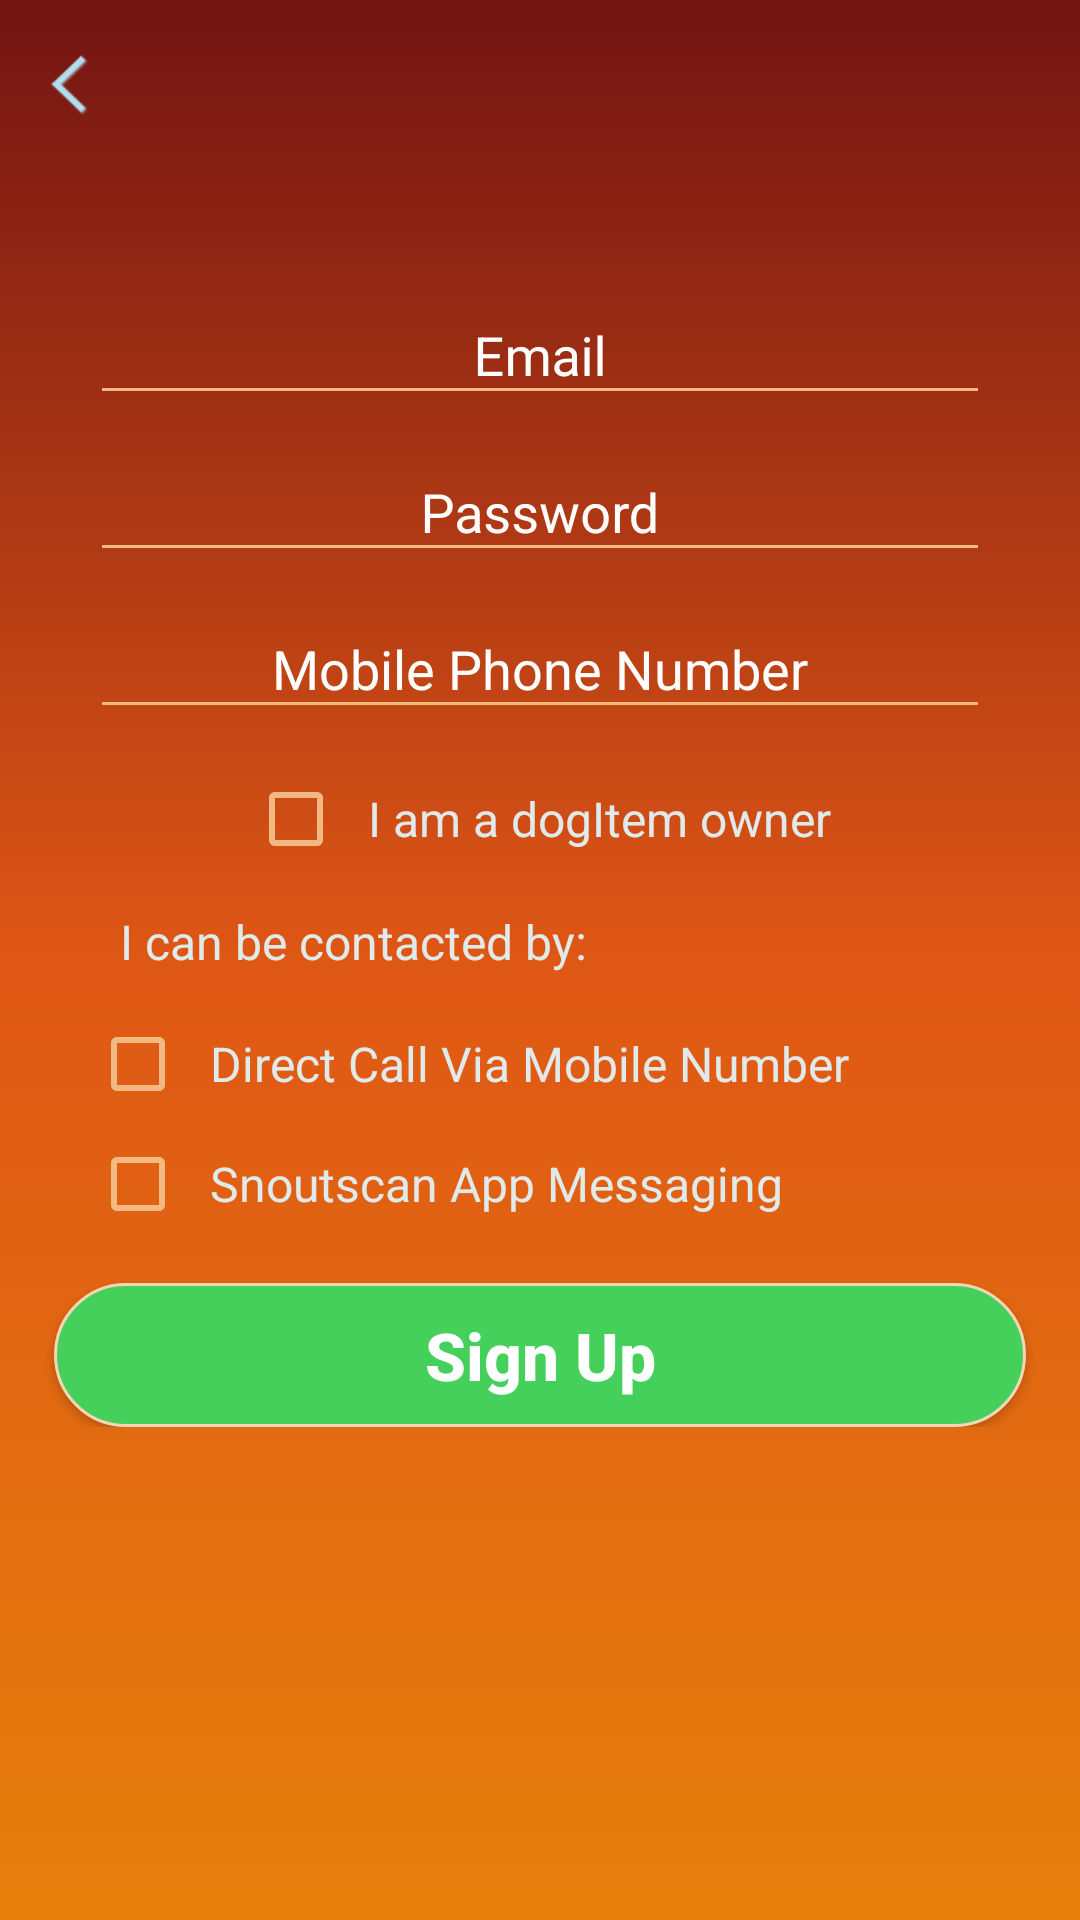

Icon click points for this 1080 × 1920 phone screenshot, format point (x, y):
top back: point (69, 84)
